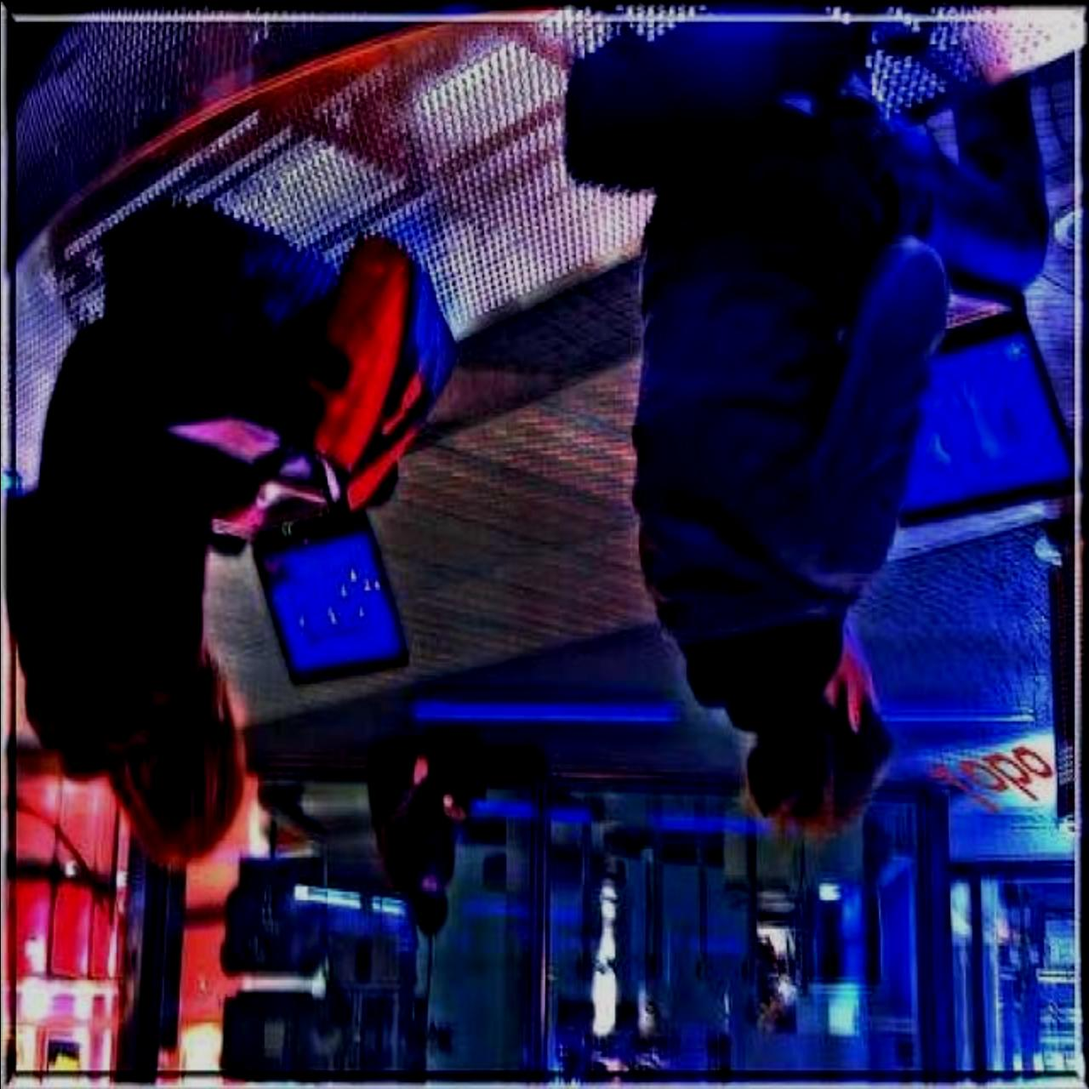laptop: (906, 296, 1054, 521), (271, 494, 410, 676)
